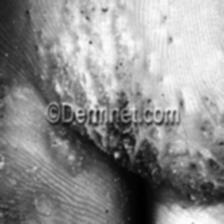Toxin: (111, 126, 164, 184)
